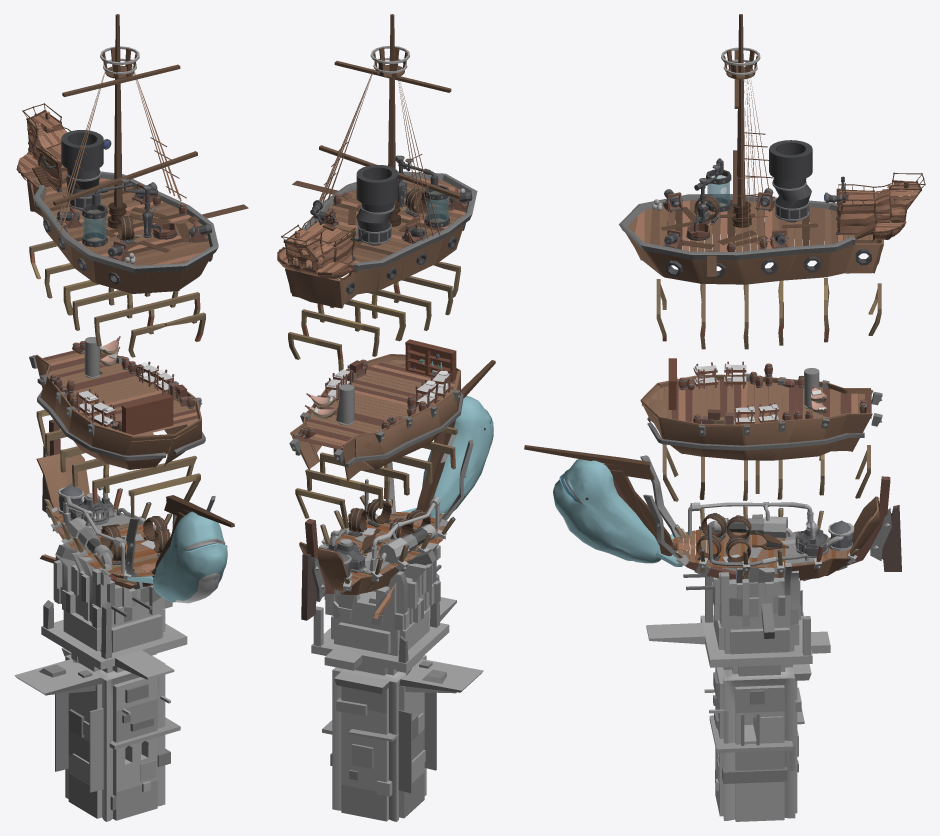
The model's file is lvl 3.1.fbx.
3 views of the same model, side by side, from view 1: azimuth 30°, elevation 25°; view 2: azimuth 150°, elevation 25°; view 3: azimuth 270°, elevation 25° (orthographic).
Visible parts, largest first — view 1: segment_4_toren, segment_1, segment_3_boeg_schip_, segment_2, segment_1_5, segment_2_5, stuurhut_onderkant, dak_stuurhut; view 2: segment_4_toren, segment_1, segment_3_boeg_schip_, segment_2, segment_1_5, segment_2_5, stuurhut_onderkant, dak_stuurhut; view 3: segment_4_toren, segment_1, segment_3_boeg_schip_, segment_2, dak_stuurhut, segment_1_5, stuurhut_onderkant, segment_2_5.
Boxes of the visible parts, <box> form: segment_4_toren: <box>14,516,187,821</box>; segment_1: <box>27,14,248,293</box>; segment_3_boeg_schip_: <box>36,419,234,603</box>; segment_2: <box>29,336,205,469</box>; segment_1_5: <box>29,241,205,357</box>; segment_2_5: <box>36,409,200,517</box>; stuurhut_onderkant: <box>16,103,67,192</box>; dak_stuurhut: <box>33,127,111,188</box>; segment_4_toren: <box>311,537,483,821</box>; segment_1: <box>285,14,477,308</box>; segment_3_boeg_schip_: <box>299,360,495,620</box>; segment_2: <box>289,339,463,480</box>; segment_1_5: <box>288,261,460,370</box>; segment_2_5: <box>295,426,457,528</box>; stuurhut_onderkant: <box>277,224,355,279</box>; dak_stuurhut: <box>297,200,365,263</box>; segment_4_toren: <box>646,514,830,821</box>; segment_1: <box>619,14,883,284</box>; segment_3_boeg_schip_: <box>524,445,901,581</box>; segment_2: <box>640,358,882,460</box>; dak_stuurhut: <box>824,176,893,232</box>; segment_1_5: <box>656,278,881,349</box>; stuurhut_onderkant: <box>836,172,925,240</box>; segment_2_5: <box>662,444,870,501</box>.
Bounding box in the file's own units: 57.9 × 219 × 101.
